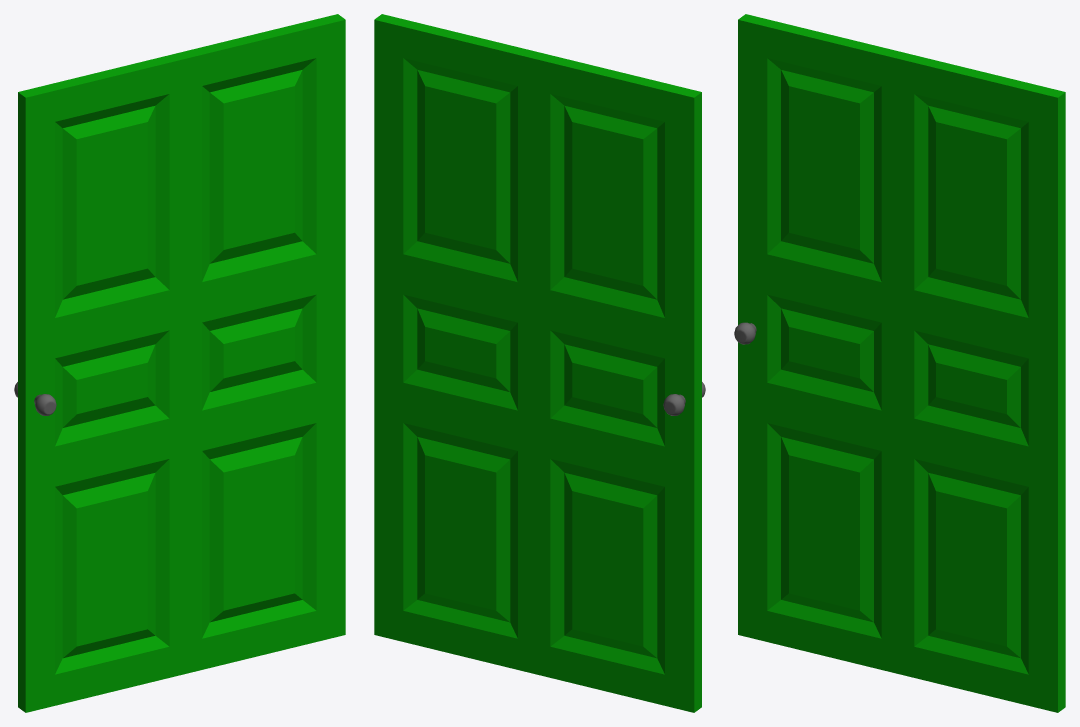
File: Mesh_Door_02.FBX
3 renders of one model, left to right at view 1: azimuth 30°, elevation 25°; view 2: azimuth 150°, elevation 25°; view 3: azimuth 330°, elevation 25°, orthographic.
Visible parts, largest first — view 1: Mesh_Door_02; view 2: Mesh_Door_02; view 3: Mesh_Door_02.
Part boxes in pixels (x1,y1,x2,y2): Mesh_Door_02: [14, 14, 345, 712]; Mesh_Door_02: [374, 14, 705, 712]; Mesh_Door_02: [734, 14, 1065, 712].
Size of the model in its own units: 118 by 217 by 19.06.
